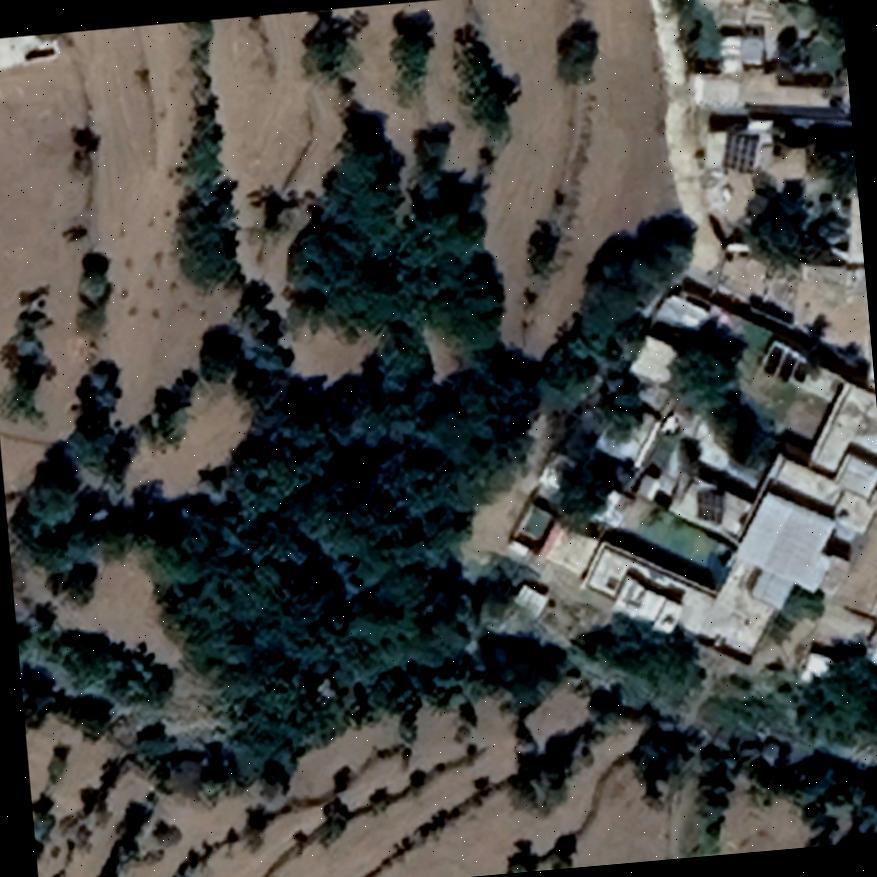Solarpanel: (721, 132, 758, 174), (694, 486, 726, 523)
